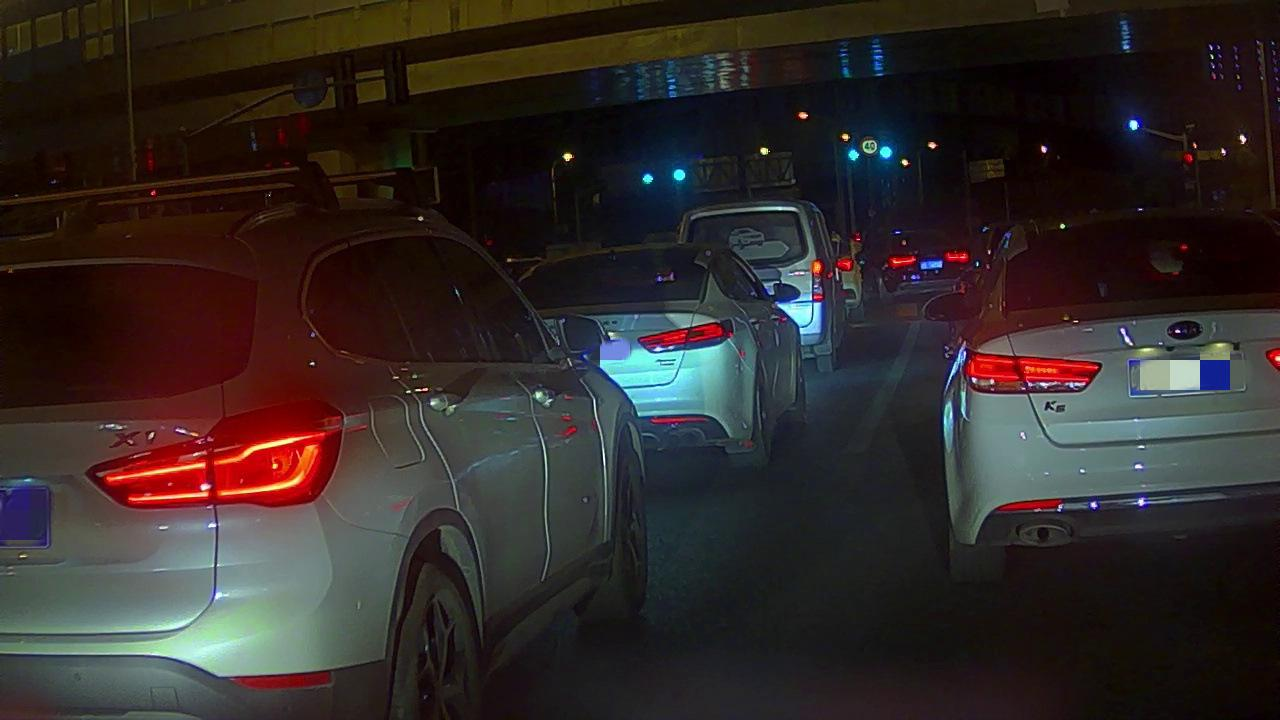traffic_light: (875, 142, 897, 162), (670, 167, 688, 186), (843, 148, 863, 164), (640, 173, 659, 187)
